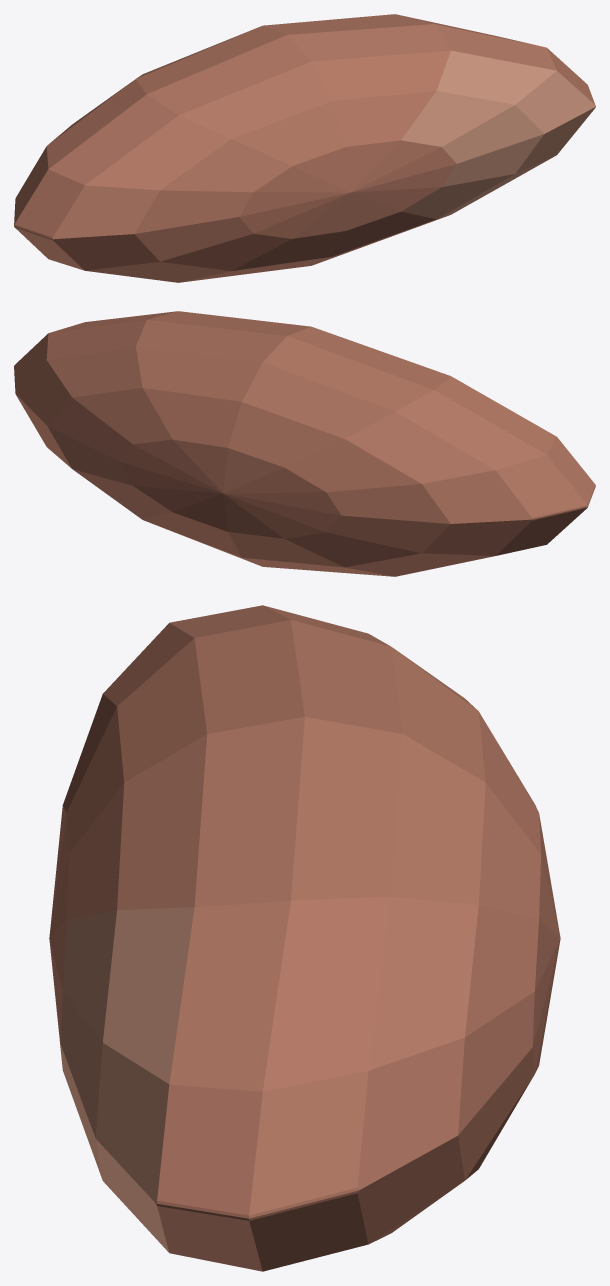
Rendered from sweet_potato.glb.
The picture shows the model from 3 angles, top to bottom: view 1: azimuth 30°, elevation 25°; view 2: azimuth 150°, elevation 25°; view 3: azimuth 270°, elevation 25°; orthographic projection. The views are drawn at different scales.
Visible parts, largest first — view 1: sweet_potato; view 2: sweet_potato; view 3: sweet_potato.
Part boxes in pixels (x1,y1,x2,y2): sweet_potato: (14,14,595,282); sweet_potato: (14,311,595,576); sweet_potato: (49,605,560,1271).
Bounding box in the file's own units: 0.1556 × 0.0574 × 0.06.
